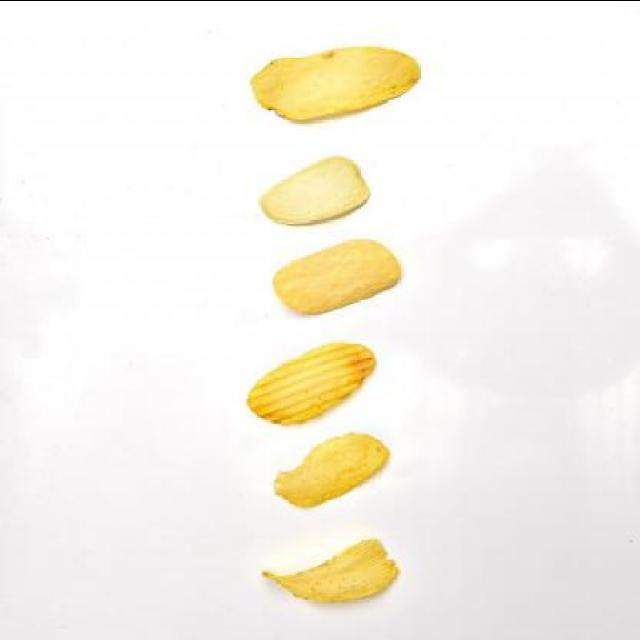Chips packaged: (240, 45, 426, 123), (241, 340, 387, 431), (266, 234, 402, 318), (260, 531, 404, 607), (267, 426, 395, 509), (253, 152, 384, 230)
